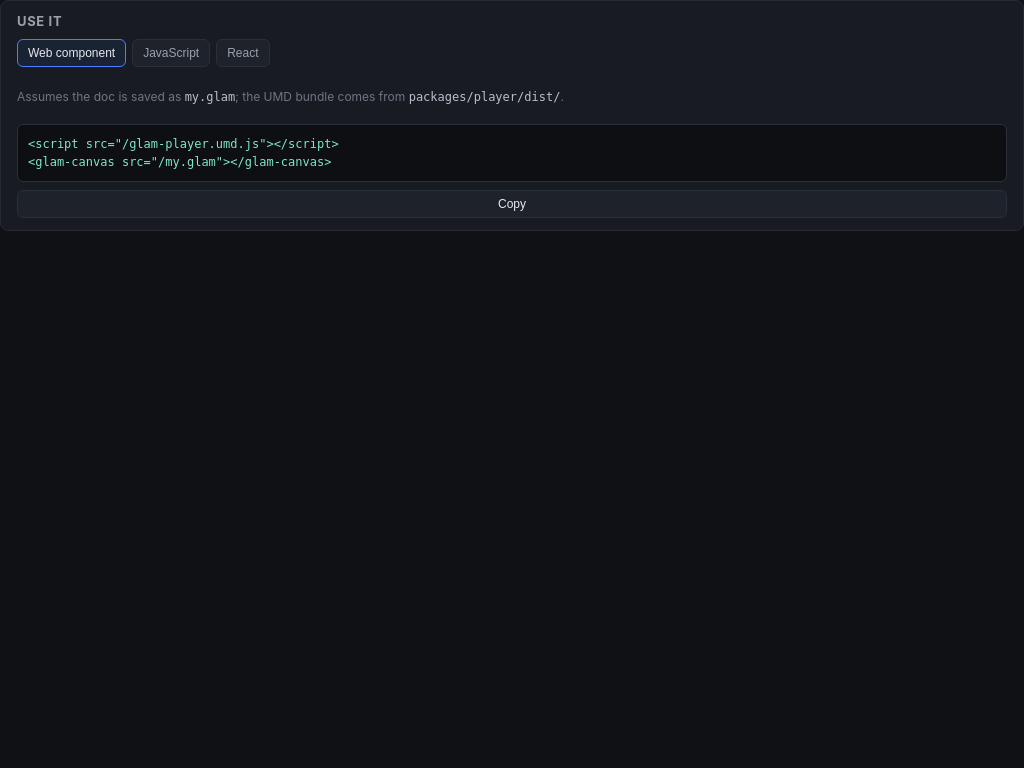
Test: switching to the web component tab after JavaScript shows the web-component snippet
Click the tab "JavaScript" at coordinates (171, 53), box [132,39,210,67]
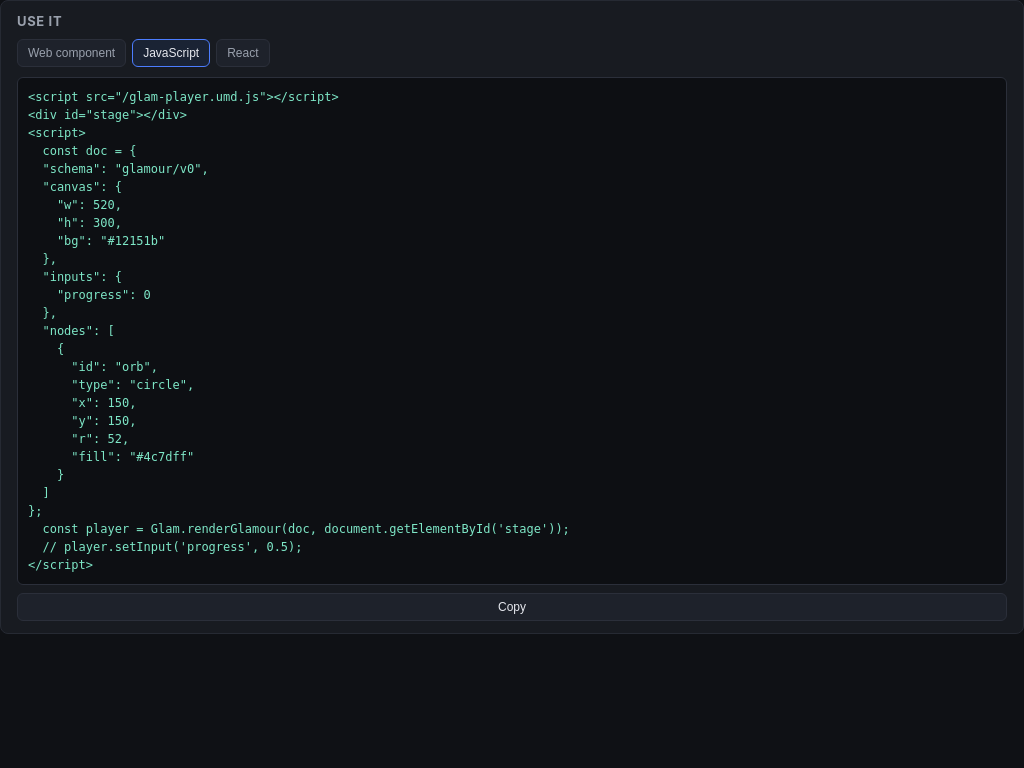
Click the tab "Web component" at coordinates (72, 53), box [17,39,126,67]
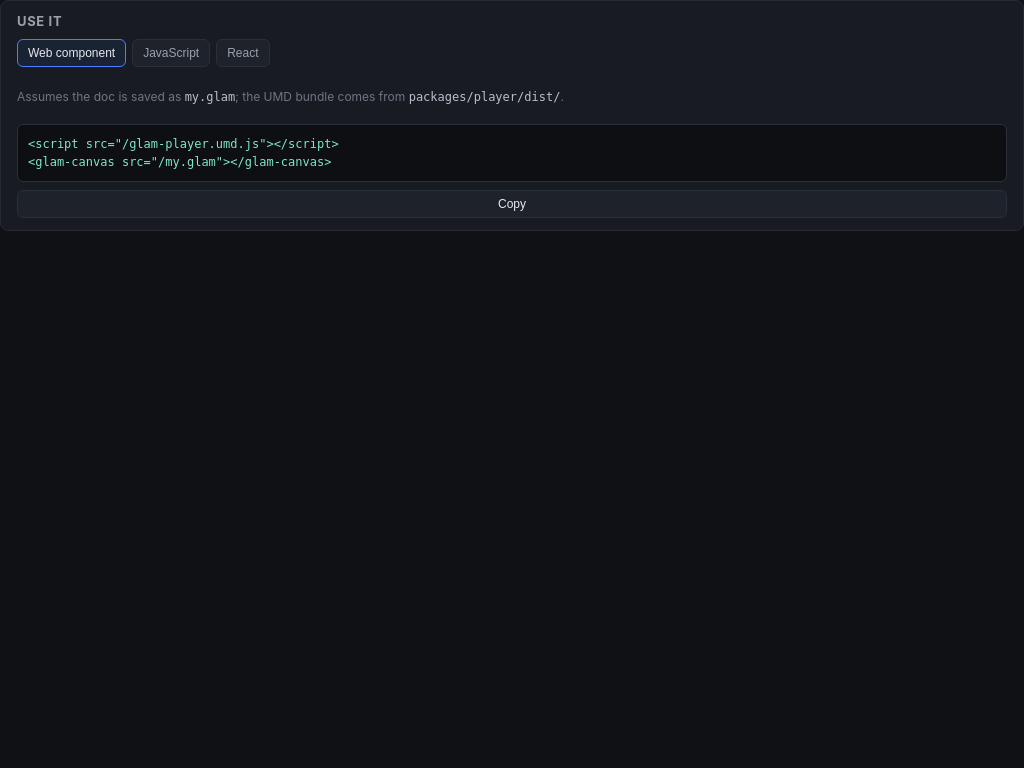
expect the text "glam-player.umd.js" is shown: met, box [28,137,339,169]
expect the text "Glam.renderGlamour" is gone: met
